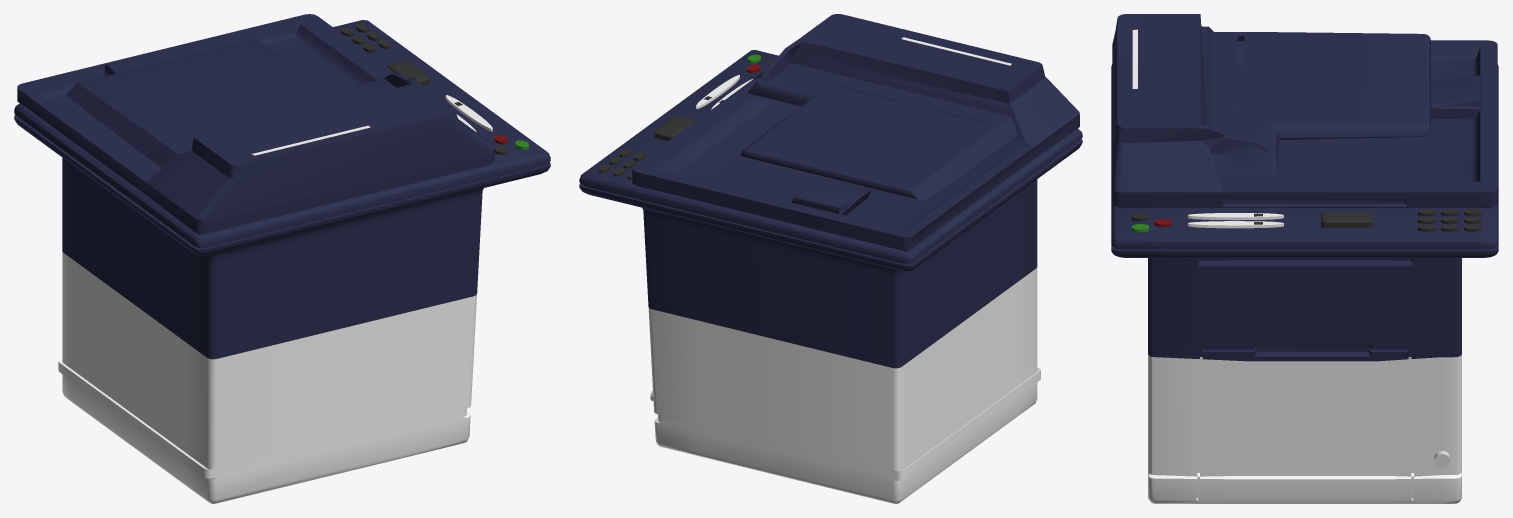
The model's file is fotokopi_makinesi.fbx.
3 renders of one model, left to right at view 1: azimuth 30°, elevation 25°; view 2: azimuth 150°, elevation 25°; view 3: azimuth 270°, elevation 25°, orthographic. The views are drawn at different scales.
Parts seen in each view (by area): view 1: Plane; view 2: Plane; view 3: Plane.
Part boxes in pixels (x1,y1,x2,y2): Plane: (14, 14, 550, 503); Plane: (579, 14, 1082, 503); Plane: (1111, 14, 1498, 503).
Bounding box in the file's own units: 360 × 338 × 326.
